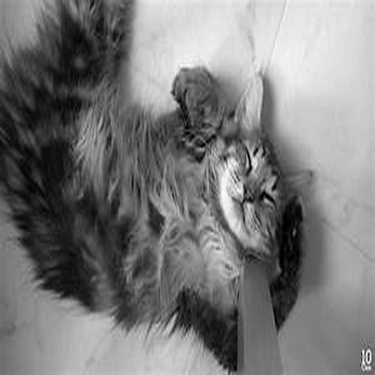cat: (9, 2, 313, 330)
